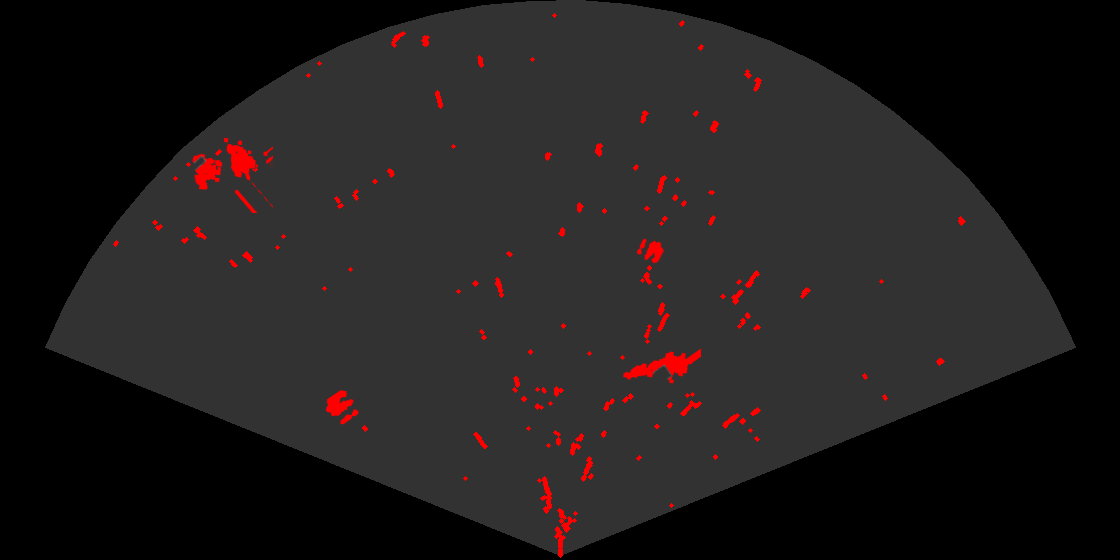ball: (324, 389, 360, 426), (635, 237, 666, 265)
cage: (191, 136, 273, 213)
frogman: (621, 347, 701, 385)
